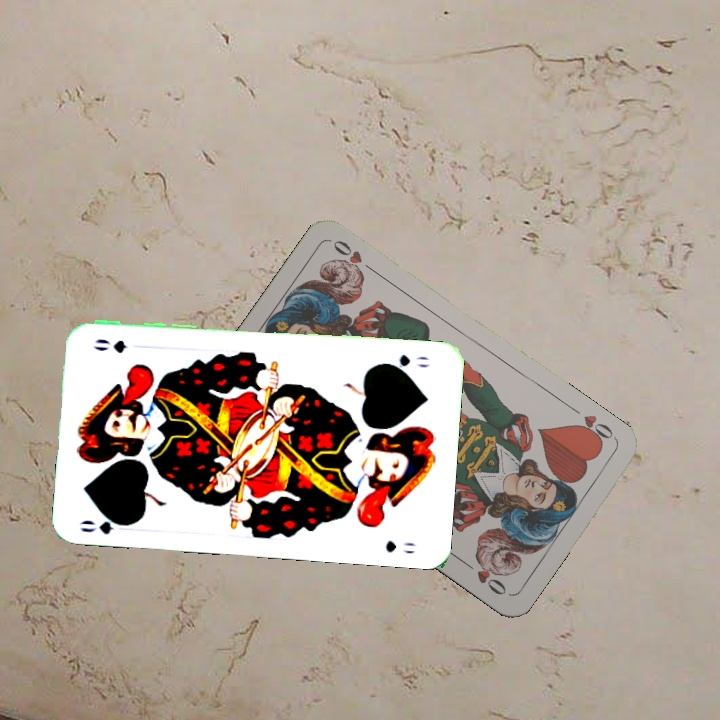GO: (76, 511, 136, 537), (378, 350, 432, 373)
HO: (569, 410, 619, 448)
